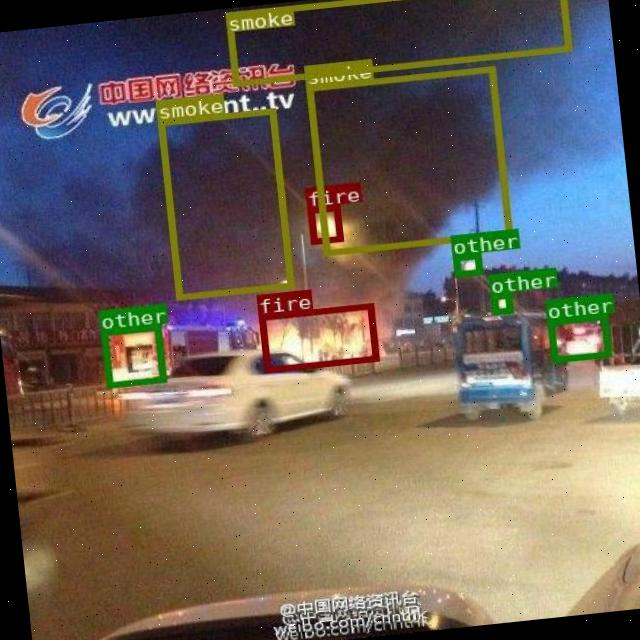fire: (258, 302, 378, 372), (306, 204, 342, 242)
smoke: (305, 66, 511, 254), (224, 0, 570, 86), (157, 107, 293, 298)
